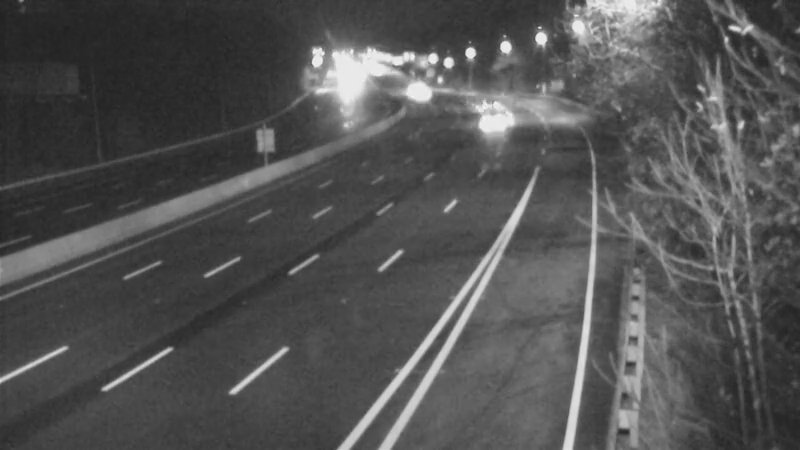vehicle: (386, 63, 436, 113), (396, 70, 446, 120), (460, 79, 510, 129), (455, 98, 505, 148)
